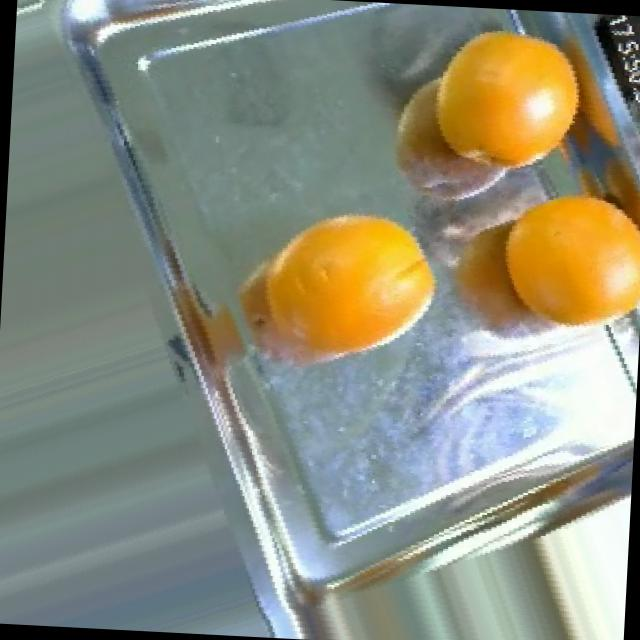Fruit: (376, 3, 610, 204), (237, 184, 463, 391)
